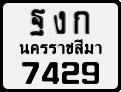letters: (29, 8, 46, 38), (21, 60, 40, 85), (41, 61, 60, 85), (81, 61, 100, 85), (73, 10, 90, 36), (61, 61, 80, 84), (52, 10, 66, 35)
province: (19, 38, 103, 57)
